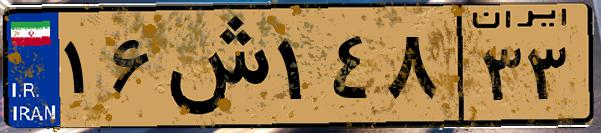1: (270, 28, 330, 110), (57, 26, 110, 100)
3: (475, 38, 525, 113), (525, 38, 570, 115)
4: (330, 28, 385, 110)
6: (110, 28, 158, 98)
8: (385, 28, 445, 110)
ش: (158, 12, 270, 120)
